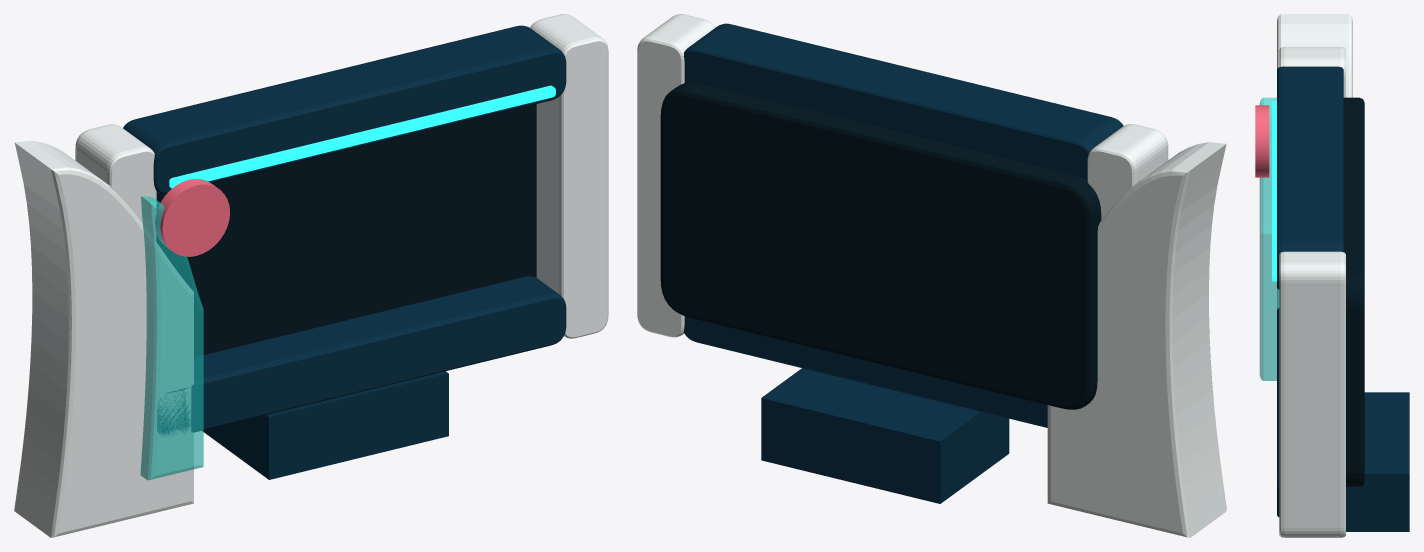
The model's file is A053-Heartwave_03_Small_Board_01.glb.
The picture shows the model from 3 angles, left to right: view 1: azimuth 30°, elevation 25°; view 2: azimuth 150°, elevation 25°; view 3: azimuth 270°, elevation 25°; orthographic projection. The views are drawn at different scales.
Visible parts, largest first — view 1: Heartwave_Small_Board_01_Opaque_Back, Heartwave_Small_Board_01_Wave_Curl, Heartwave_Small_Board_01_Frame_Top, Heartwave_Small_Board_01_Frame_Bottom, Heartwave_Small_Board_01_Frame_Right, Heartwave_Small_Board_01_Pedestal, Heartwave_Small_Board_01_SeaGlass_Ribbon, Heartwave_Small_Board_01_Frame_Left, Heartwave_Small_Board_01_Glow_Top, Heartwave_Small_Board_01_Number_Badge; view 2: Heartwave_Small_Board_01_Opaque_Back, Heartwave_Small_Board_01_Wave_Curl, Heartwave_Small_Board_01_Frame_Top, Heartwave_Small_Board_01_Pedestal, Heartwave_Small_Board_01_Frame_Right, Heartwave_Small_Board_01_Frame_Bottom, Heartwave_Small_Board_01_Frame_Left; view 3: Heartwave_Small_Board_01_Frame_Right, Heartwave_Small_Board_01_Frame_Top, Heartwave_Small_Board_01_Opaque_Back, Heartwave_Small_Board_01_Pedestal, Heartwave_Small_Board_01_SeaGlass_Ribbon, Heartwave_Small_Board_01_Wave_Curl, Heartwave_Small_Board_01_Frame_Left, Heartwave_Small_Board_01_Number_Badge, Heartwave_Small_Board_01_Glow_Top, Heartwave_Small_Board_01_Frame_Bottom.
Boxes of the visible parts, box(x1,y1,x2,y2) form: Heartwave_Small_Board_01_Opaque_Back: box(156, 104, 536, 357); Heartwave_Small_Board_01_Wave_Curl: box(14, 140, 193, 537); Heartwave_Small_Board_01_Frame_Top: box(123, 25, 566, 193); Heartwave_Small_Board_01_Frame_Bottom: box(157, 276, 566, 434); Heartwave_Small_Board_01_Frame_Right: box(530, 14, 608, 338); Heartwave_Small_Board_01_Pedestal: box(202, 371, 448, 479); Heartwave_Small_Board_01_SeaGlass_Ribbon: box(140, 196, 203, 480); Heartwave_Small_Board_01_Frame_Left: box(75, 124, 156, 241); Heartwave_Small_Board_01_Glow_Top: box(169, 85, 555, 188); Heartwave_Small_Board_01_Number_Badge: box(155, 179, 229, 256); Heartwave_Small_Board_01_Opaque_Back: box(660, 82, 1101, 409); Heartwave_Small_Board_01_Wave_Curl: box(1047, 142, 1226, 537); Heartwave_Small_Board_01_Frame_Top: box(683, 23, 1123, 180); Heartwave_Small_Board_01_Pedestal: box(761, 368, 1009, 503); Heartwave_Small_Board_01_Frame_Right: box(637, 14, 715, 337); Heartwave_Small_Board_01_Frame_Bottom: box(684, 316, 1047, 427); Heartwave_Small_Board_01_Frame_Left: box(1087, 124, 1168, 219); Heartwave_Small_Board_01_Frame_Right: box(1279, 251, 1345, 537); Heartwave_Small_Board_01_Frame_Top: box(1277, 66, 1343, 289); Heartwave_Small_Board_01_Opaque_Back: box(1343, 97, 1364, 486); Heartwave_Small_Board_01_Pedestal: box(1346, 392, 1409, 531); Heartwave_Small_Board_01_SeaGlass_Ribbon: box(1259, 97, 1279, 380); Heartwave_Small_Board_01_Wave_Curl: box(1277, 14, 1352, 307); Heartwave_Small_Board_01_Frame_Left: box(1279, 47, 1345, 97); Heartwave_Small_Board_01_Number_Badge: box(1255, 105, 1269, 177); Heartwave_Small_Board_01_Glow_Top: box(1272, 101, 1276, 281); Heartwave_Small_Board_01_Frame_Bottom: box(1277, 308, 1279, 517).
Bounding box in the file's own units: 1 × 0.6319 × 0.2576.
